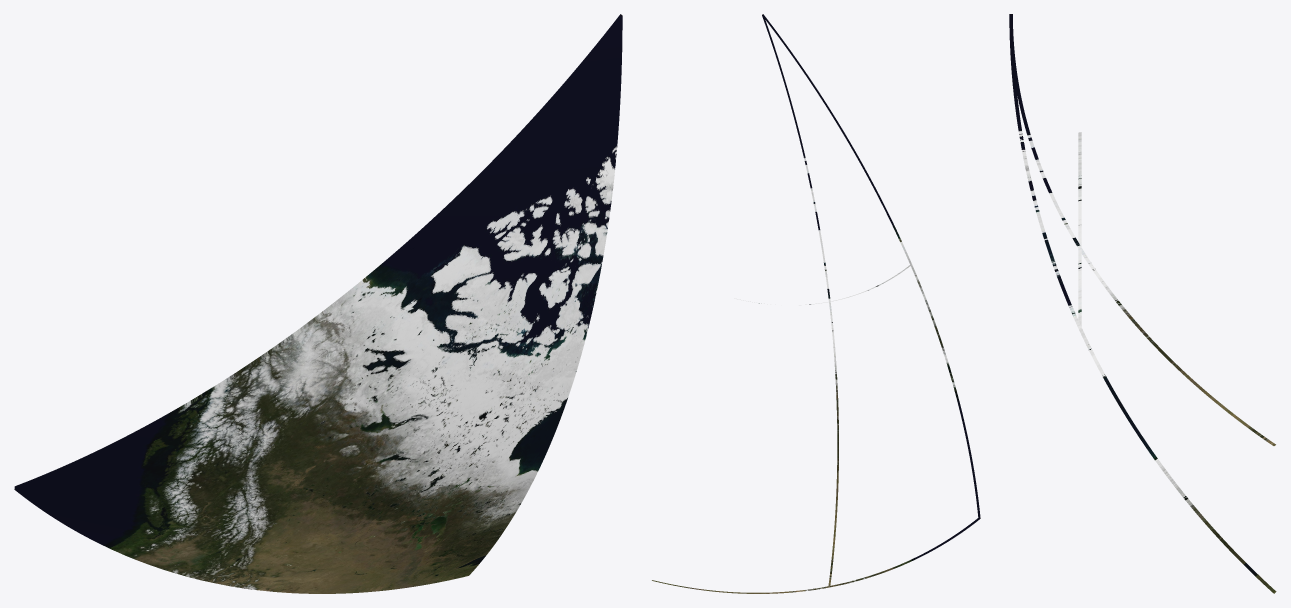
3 views of the same model, side by side, from view 1: azimuth 30°, elevation 25°; view 2: azimuth 150°, elevation 25°; view 3: azimuth 270°, elevation 25° (orthographic). The views are drawn at different scales.
Visible parts, largest first — view 1: DefaultName.003, DefaultName.006, DefaultName.012, DefaultName.009; view 2: DefaultName.003, DefaultName.006, DefaultName.012, DefaultName.009; view 3: DefaultName.006, DefaultName.003, DefaultName.009, DefaultName.012.
Boxes of the visible parts, x1,y1,x2,y2 form: DefaultName.003: (14,302,448,584); DefaultName.006: (223,351,582,593); DefaultName.012: (335,14,622,355); DefaultName.009: (449,16,622,360); DefaultName.003: (828,264,980,587); DefaultName.006: (652,298,838,593); DefaultName.012: (762,14,911,301); DefaultName.009: (762,16,830,305); DefaultName.006: (1078,247,1276,593); DefaultName.003: (1078,132,1275,445); DefaultName.009: (1009,14,1081,327); DefaultName.012: (1013,29,1080,247).
Bounding box in the file's own units: 31944 × 45179 × 18870.
4 materials, 4 textured.
